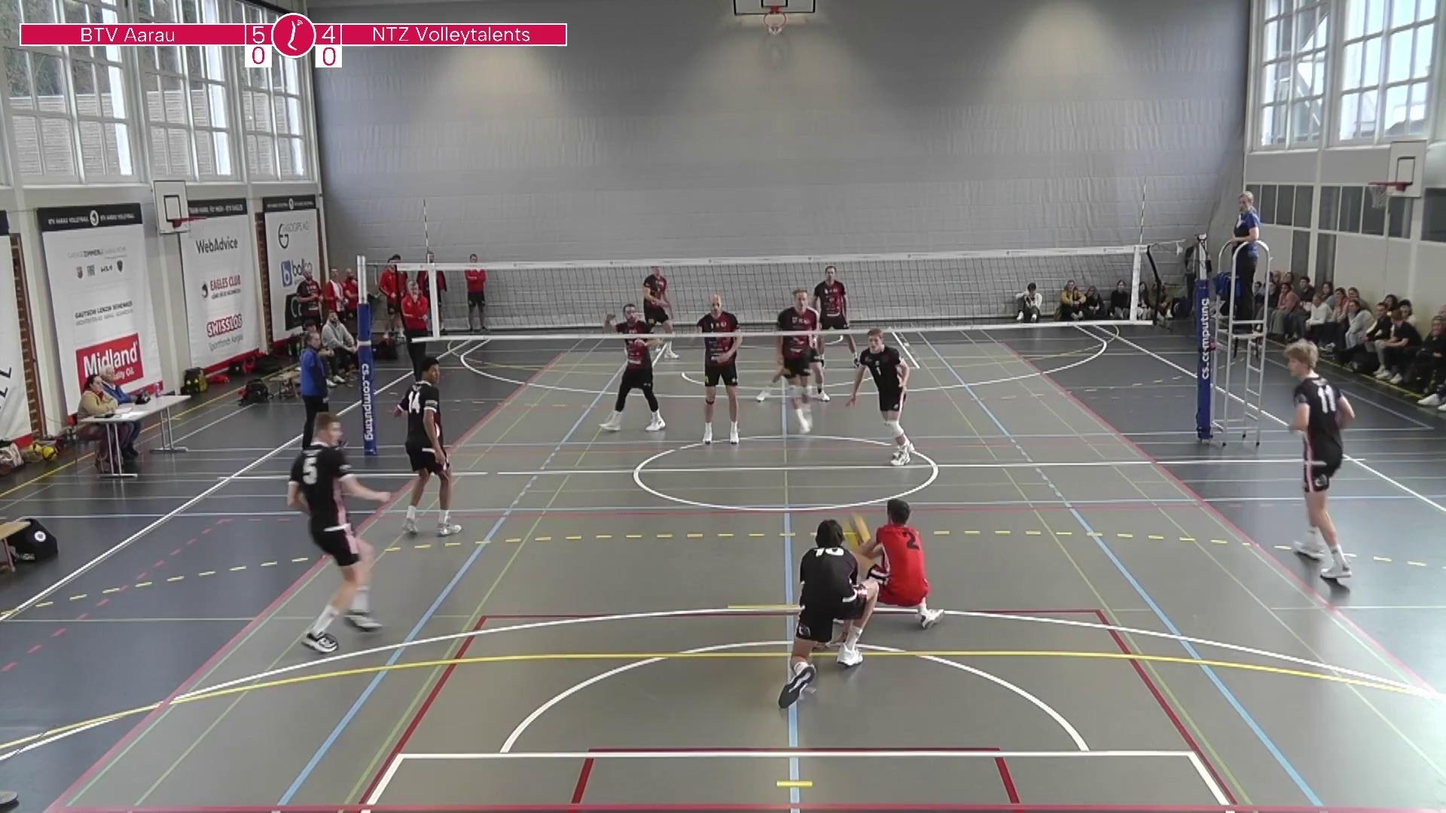Player: (288, 414, 395, 653), (776, 519, 870, 709), (1284, 341, 1353, 583), (393, 359, 462, 536), (848, 326, 914, 466), (601, 302, 667, 433), (768, 288, 820, 432), (696, 294, 743, 444), (812, 265, 850, 361), (642, 265, 676, 359)
Receive: (850, 494, 947, 634)
ball: (842, 511, 874, 551)
